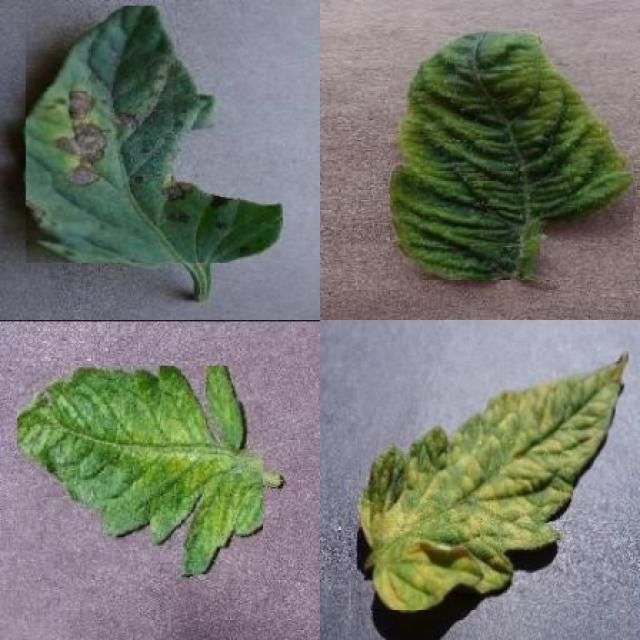Early Blight: (26, 5, 283, 264)
Leaf Mold: (357, 350, 629, 610)
Mosaic Virus: (17, 365, 263, 575)
Yellow Leaf Curl Virus: (390, 32, 633, 281)
